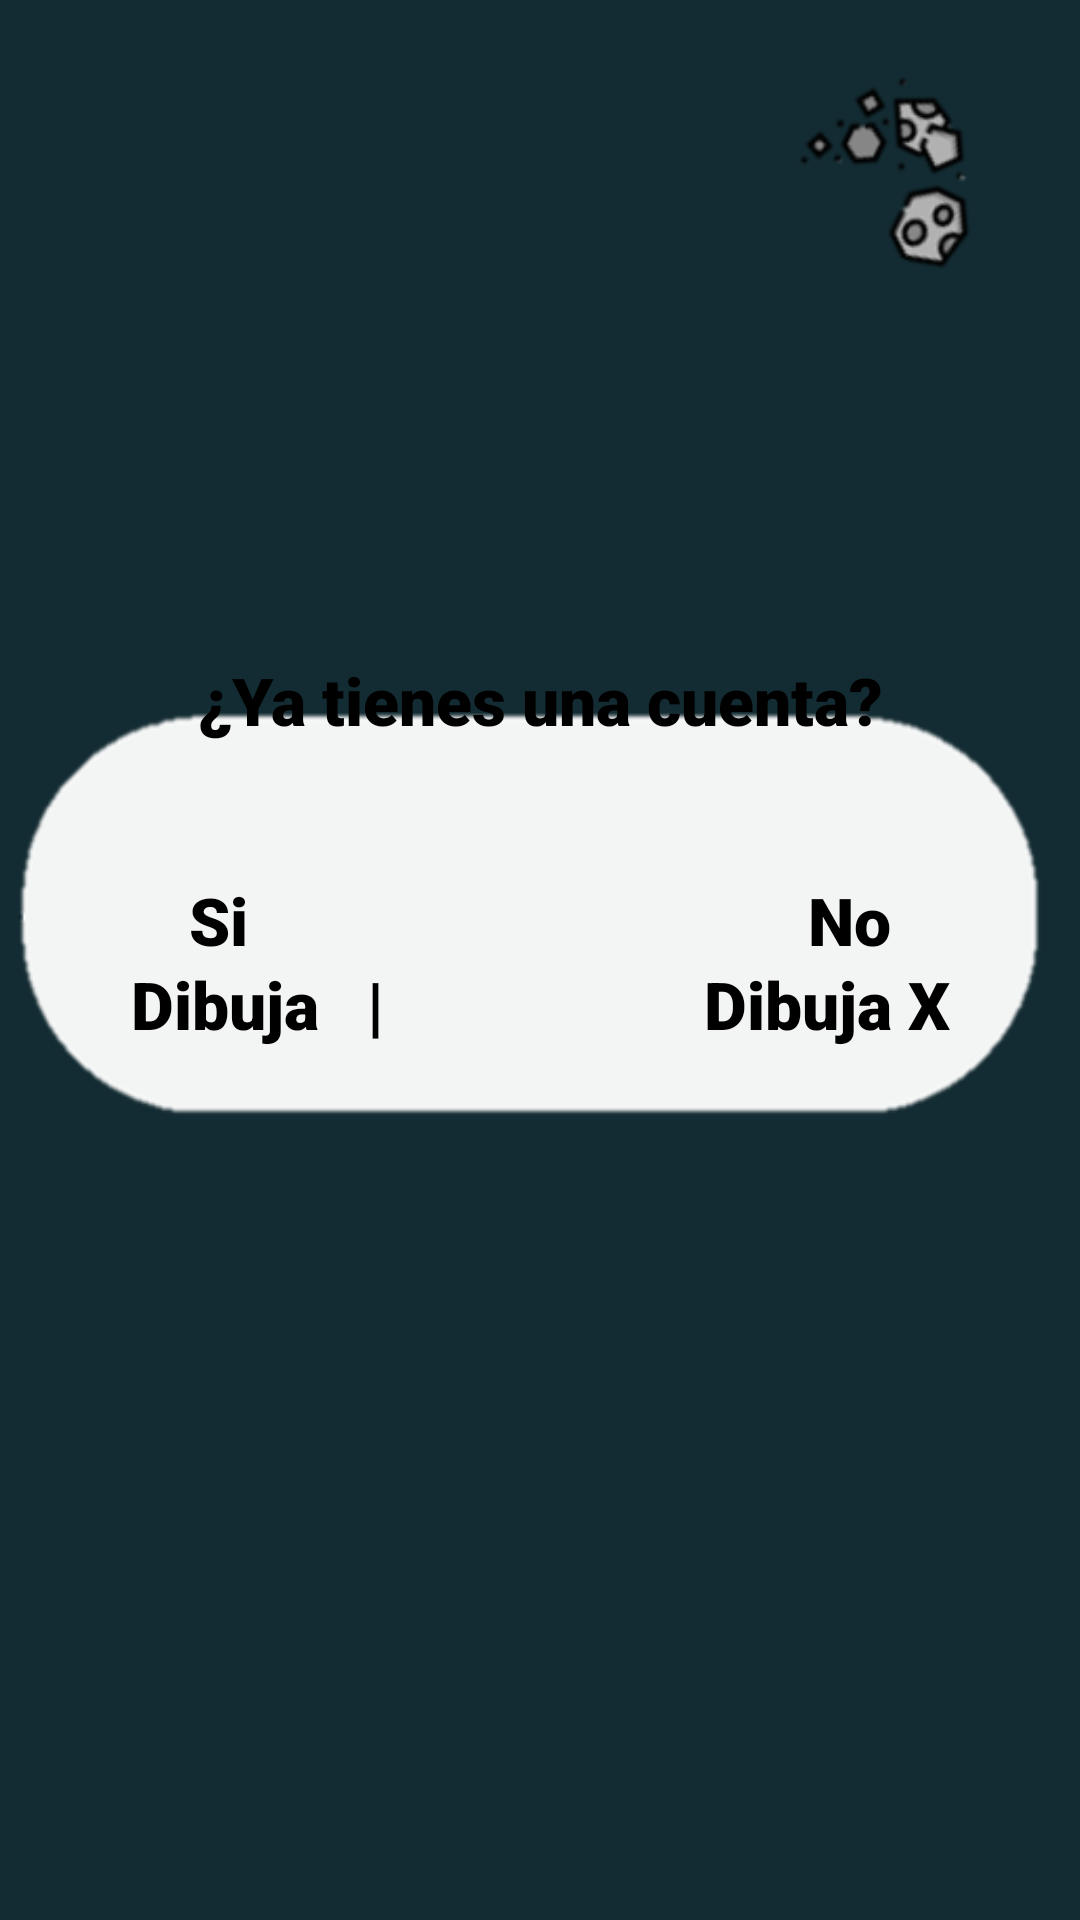

Point at icon controls on the screen. Image size 1080 × 1920, points as (x=x, y=y).
asteroides: (x=885, y=173)
